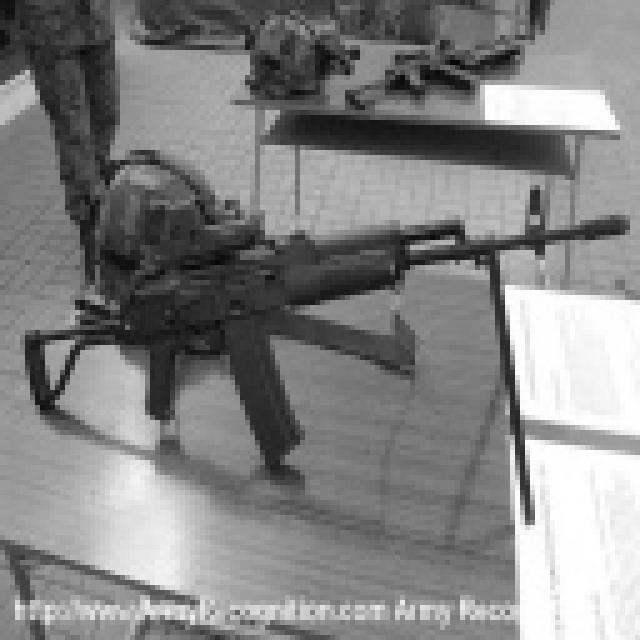Rifle: (0, 81, 640, 544), (274, 0, 549, 142)
